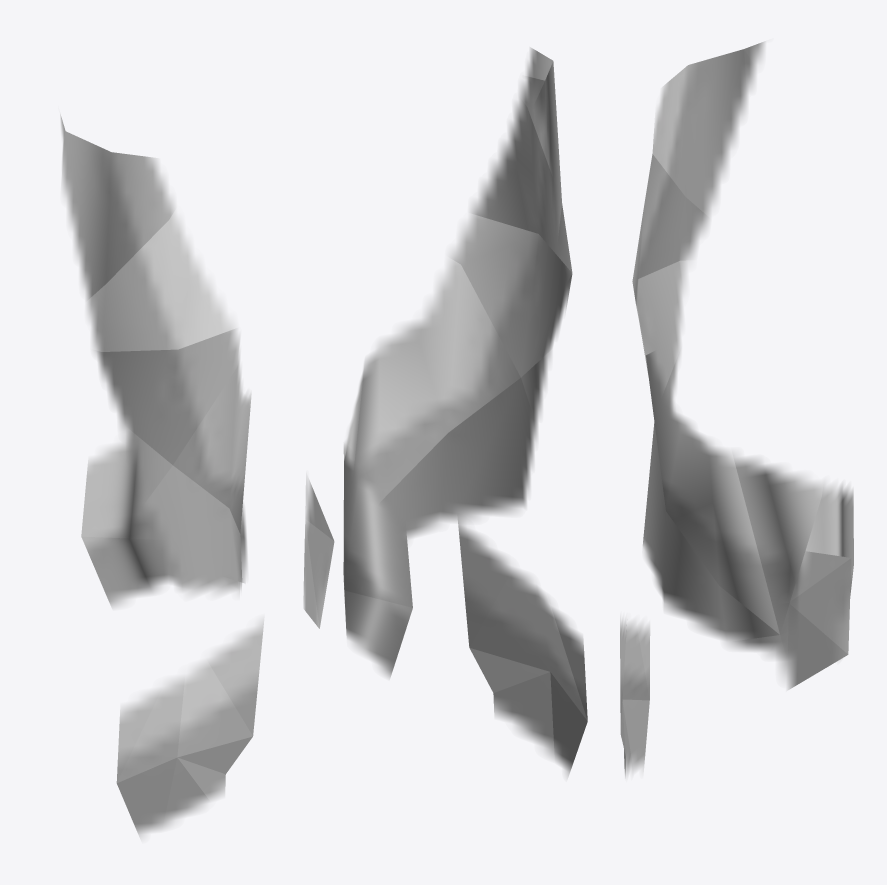
The model's file is ancient_SM_Env_Ivy_Pillar_Flowers_01.gltf.
3 renders of one model, left to right at view 1: azimuth 30°, elevation 25°; view 2: azimuth 150°, elevation 25°; view 3: azimuth 270°, elevation 25°, orthographic. The views are drawn at different scales.
Visible parts, largest first — view 1: SM_Env_Ivy_Pillar_Flowers_01; view 2: SM_Env_Ivy_Pillar_Flowers_01; view 3: SM_Env_Ivy_Pillar_Flowers_01.
Part boxes in pixels (left/top/right/bottom): SM_Env_Ivy_Pillar_Flowers_01: left=60, top=114, right=264, bottom=838; SM_Env_Ivy_Pillar_Flowers_01: left=303, top=47, right=587, bottom=776; SM_Env_Ivy_Pillar_Flowers_01: left=620, top=41, right=853, bottom=777.
Size of the model in its own units: 0.698 by 2.24 by 0.6302.
Materials: 1 (1 with a texture image).
